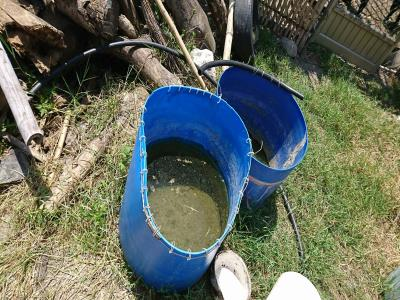bowl: (205, 248, 253, 300)
bucket: (115, 82, 255, 292), (219, 62, 317, 212)
